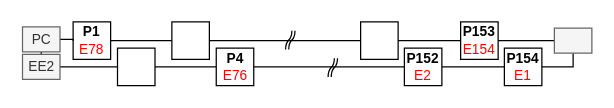
This 614x108 diagram has some shape labels left out. Here are the shapes that lost their labels. From the top down, the centre of each, then its label:
At [190,40]: "P3 E79".
At [378,40]: "P151 E153".
At [572,40]: "EE1".
At [135,66]: "P2 E77".
